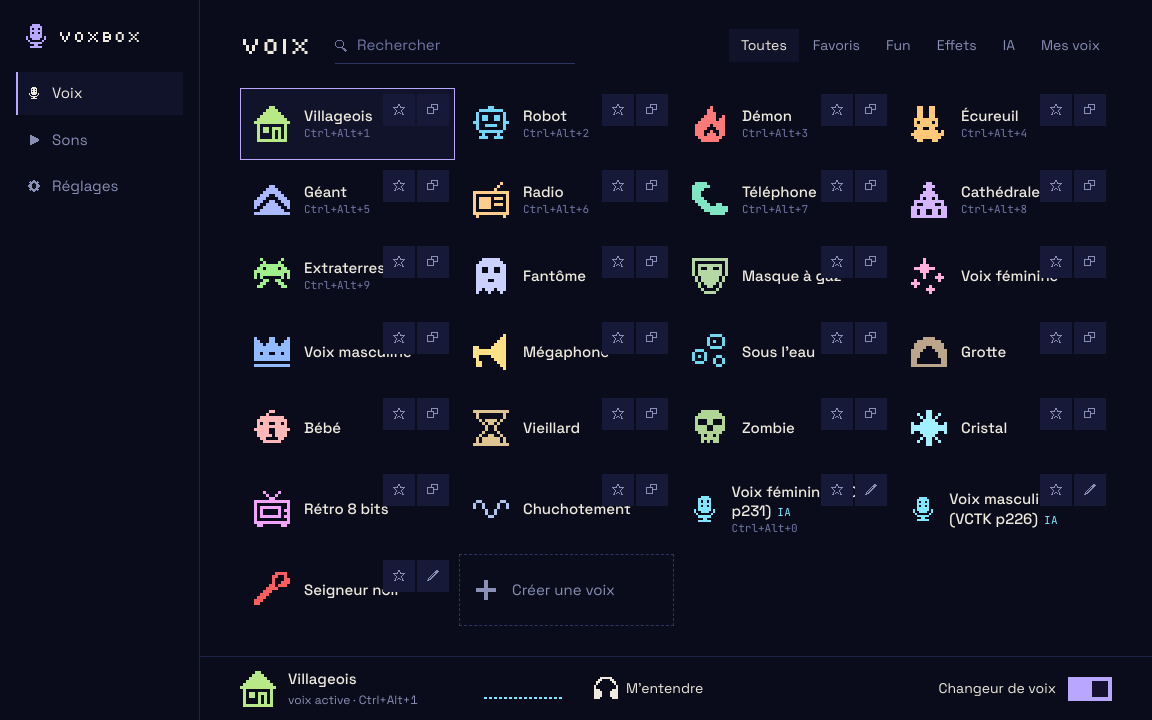
Test case: voice selection › activates a voice on click and reflects it in the grid and the bottom bar
Click the button "Robot Ctrl+Alt+2". click: (566, 124)
box: [459, 88, 674, 160]
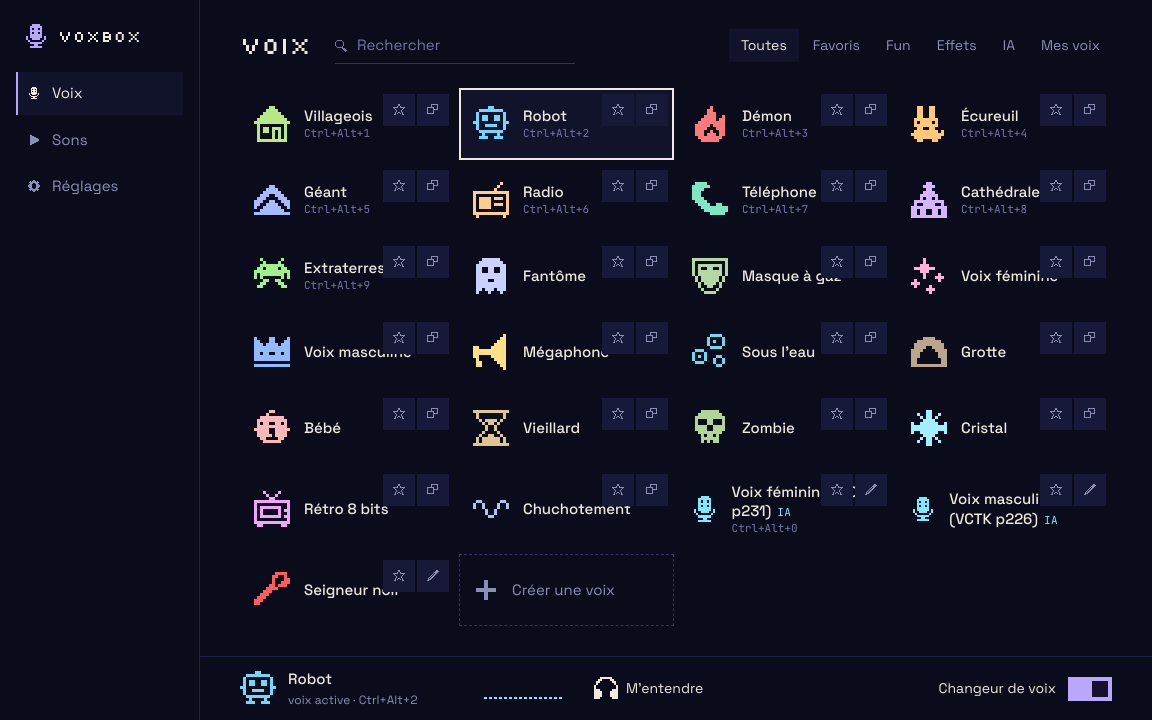
Result: the text "Robot" in the row of "Changeur de voix" is shown at [288, 669, 332, 688]
Result: the text "voix active · Ctrl+Alt+2" is shown at [288, 691, 418, 709]
